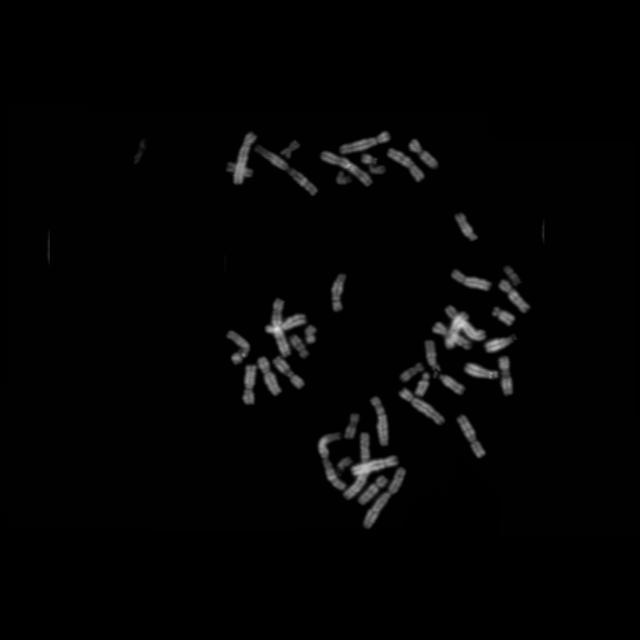chromosome: (256, 146, 318, 197), (364, 468, 406, 528), (320, 152, 372, 186), (344, 433, 370, 499), (400, 388, 446, 424), (318, 434, 346, 491), (445, 305, 485, 341), (458, 414, 486, 458), (342, 130, 391, 154), (388, 150, 424, 182), (234, 132, 256, 184), (432, 322, 472, 350), (272, 298, 290, 358), (500, 280, 530, 312), (274, 357, 304, 389), (371, 396, 389, 446), (258, 356, 280, 396), (357, 476, 388, 504), (409, 140, 439, 168), (451, 270, 491, 290), (446, 312, 468, 348), (354, 456, 398, 474), (226, 331, 249, 365), (454, 212, 478, 242), (266, 315, 306, 333), (486, 333, 516, 352), (464, 363, 498, 379), (242, 366, 256, 404), (332, 275, 346, 311), (440, 374, 464, 394), (401, 362, 424, 382), (500, 357, 512, 395), (343, 412, 359, 440), (290, 335, 308, 359), (504, 265, 522, 287), (492, 308, 514, 326), (225, 163, 252, 177), (281, 141, 299, 159), (416, 372, 429, 396), (426, 339, 436, 367), (305, 324, 317, 344), (337, 172, 351, 186), (338, 456, 352, 470), (370, 165, 386, 175), (362, 154, 376, 164)
